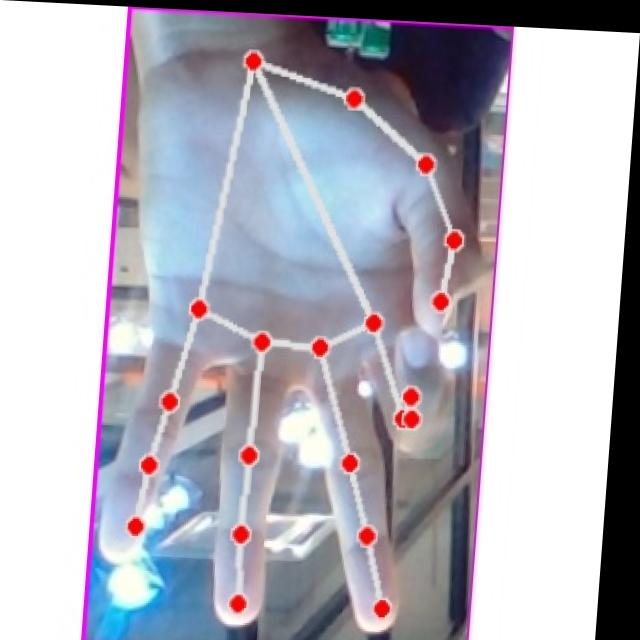F: (101, 29, 499, 640)
